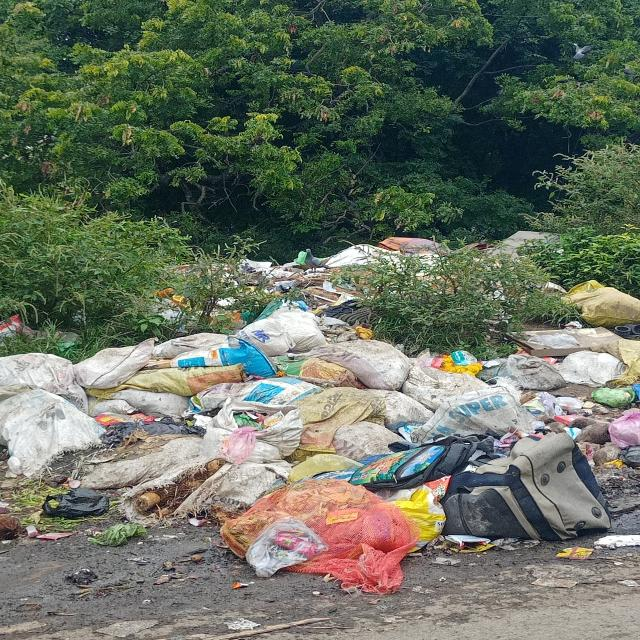garbage: (0, 322, 640, 575), (173, 238, 481, 330), (507, 267, 640, 323)
